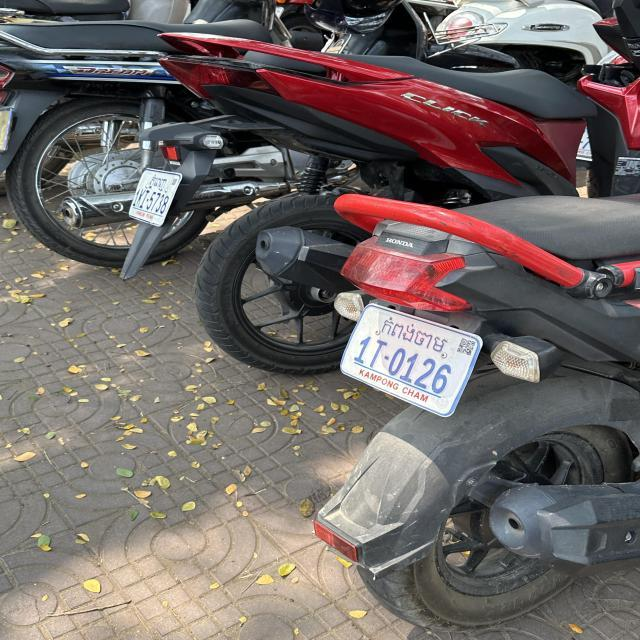Kampong_Cham: (380, 317, 448, 353)
